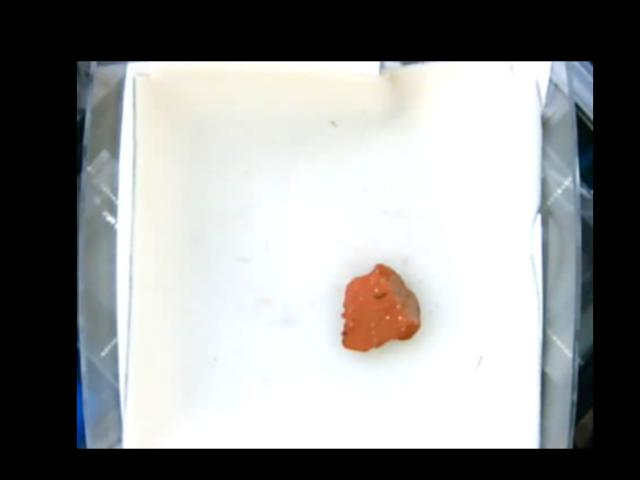Brisk: (339, 262, 422, 351)
